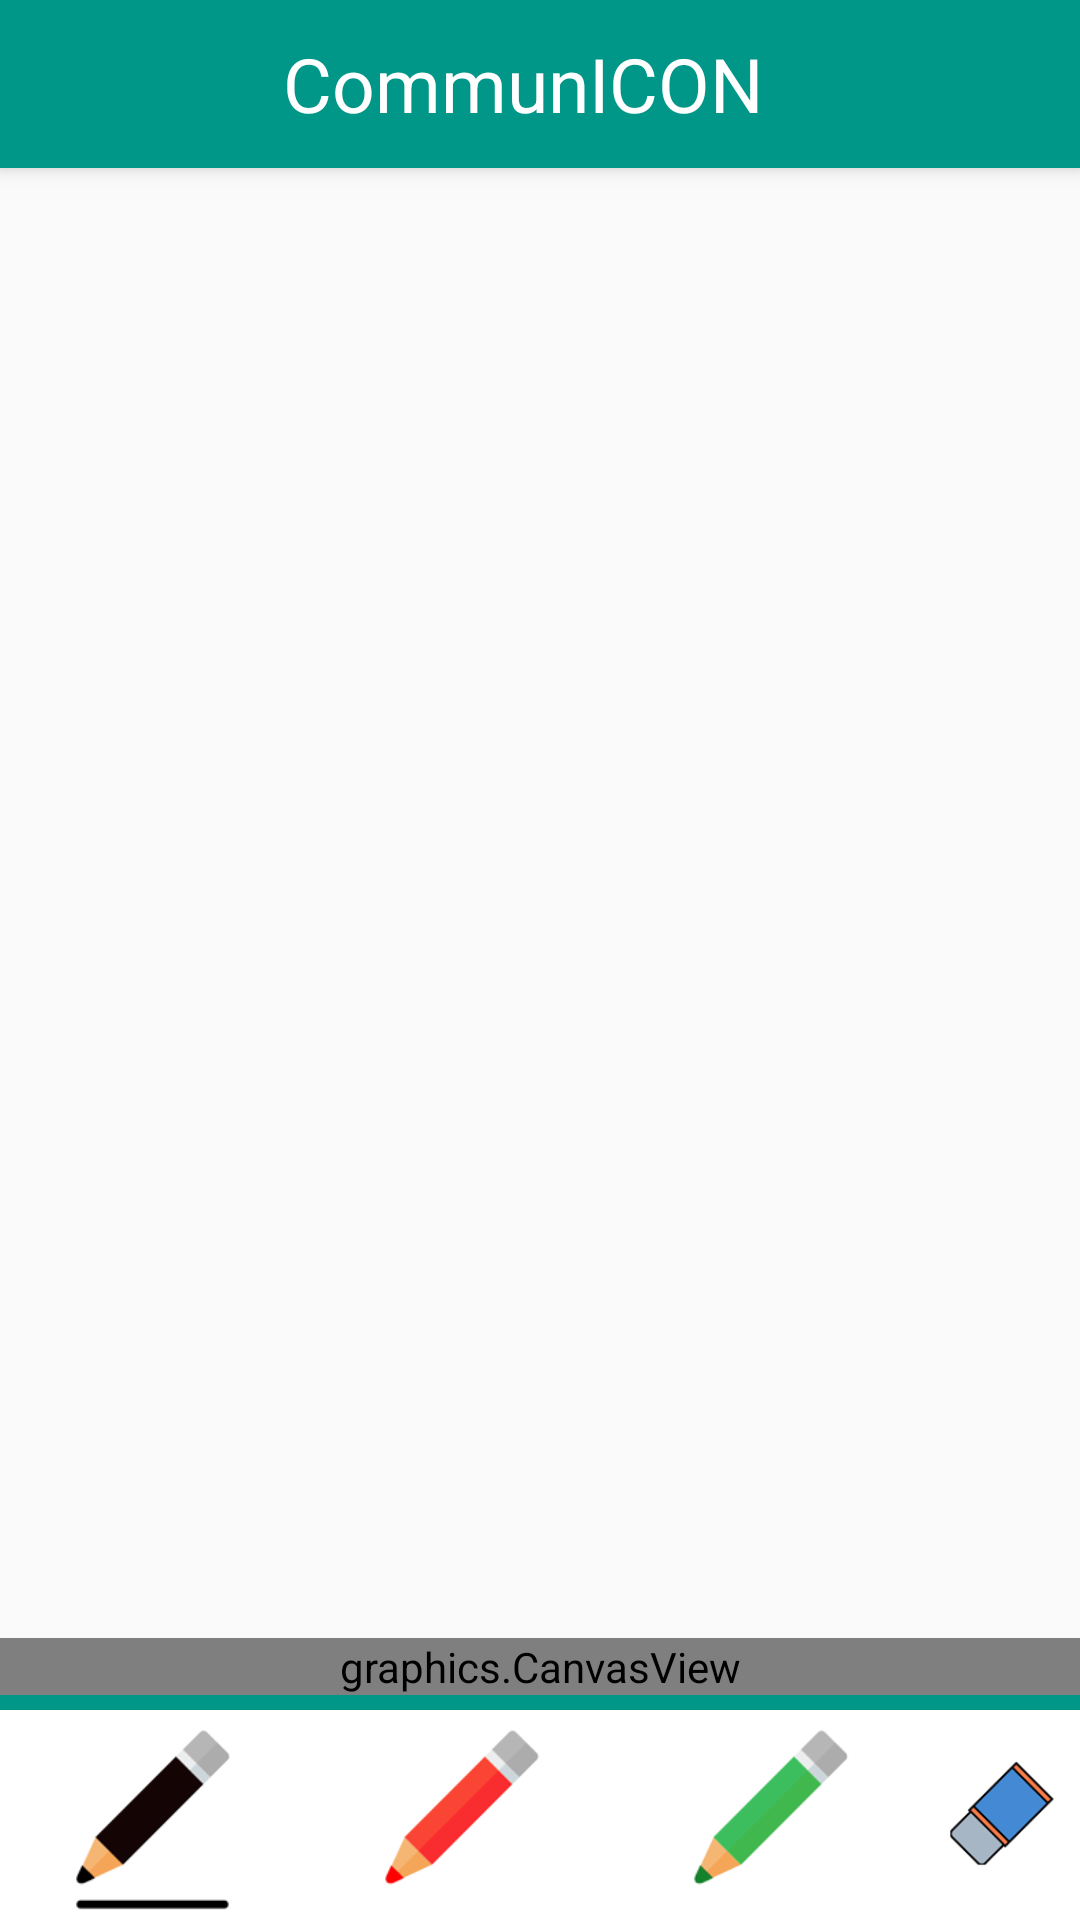

Icon bounding boxes for this 1080*1920 phone screenshot, format (x1=x1, y1=y1, x2=x2, y2=y2):
eraser: (x1=950, y1=1761, x2=1054, y2=1865)
pencil: (x1=385, y1=1730, x2=538, y2=1885), (x1=694, y1=1730, x2=847, y2=1885)
pencil underlined: (x1=76, y1=1730, x2=229, y2=1909)
